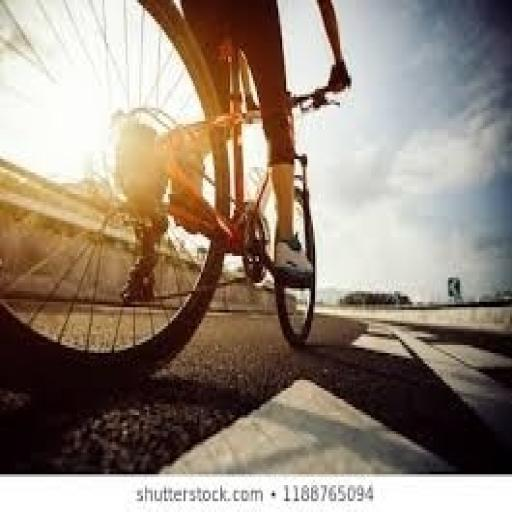cycling: (170, 0, 354, 286)
